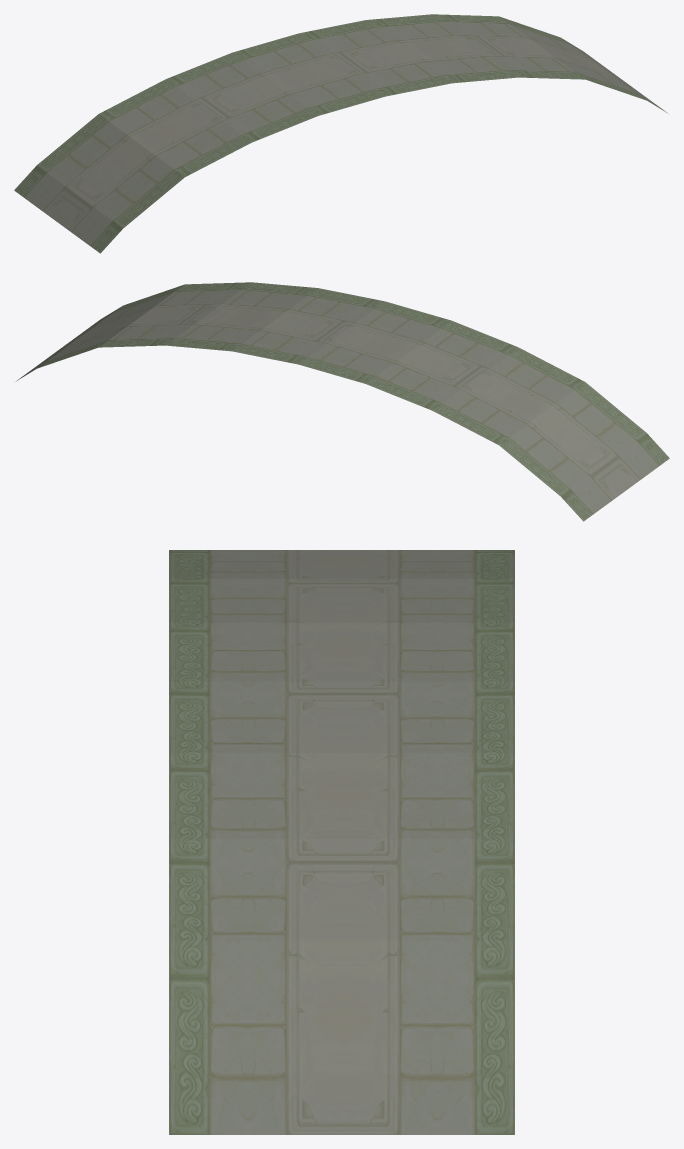
File: pengzhuangtaoyuanzhen.FBX
3 renders of one model, top to bottom at view 1: azimuth 30°, elevation 25°; view 2: azimuth 150°, elevation 25°; view 3: azimuth 270°, elevation 25°, orthographic. The views are drawn at different scales.
Visible parts, largest first — view 1: pengzhuangtaoyuanzhen; view 2: pengzhuangtaoyuanzhen; view 3: pengzhuangtaoyuanzhen.
Boxes of the visible parts, x1,y1,x2,y2 form: pengzhuangtaoyuanzhen: (14, 14, 667, 253); pengzhuangtaoyuanzhen: (16, 282, 669, 521); pengzhuangtaoyuanzhen: (169, 550, 514, 1134).
Size of the model in its own units: 1543 by 227 by 405.
